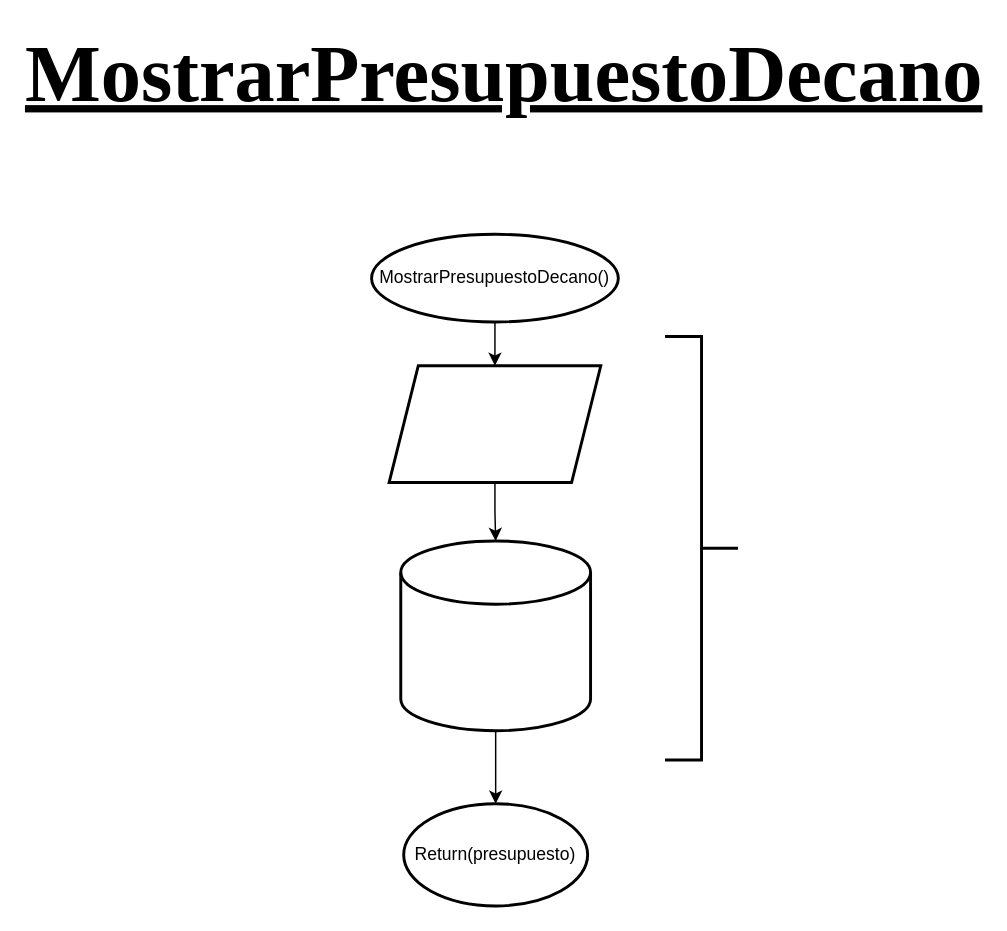
Some shapes in this 1007 by 931 pixel diagram are drawn without their labels. Here are the shapes that lost their labels. From the top down, the centre of each, then its label:
At pixel 494 423: "Array presupuesto".
At pixel 495 635: "ObtenerPresupuestoD(); presupuesto".
